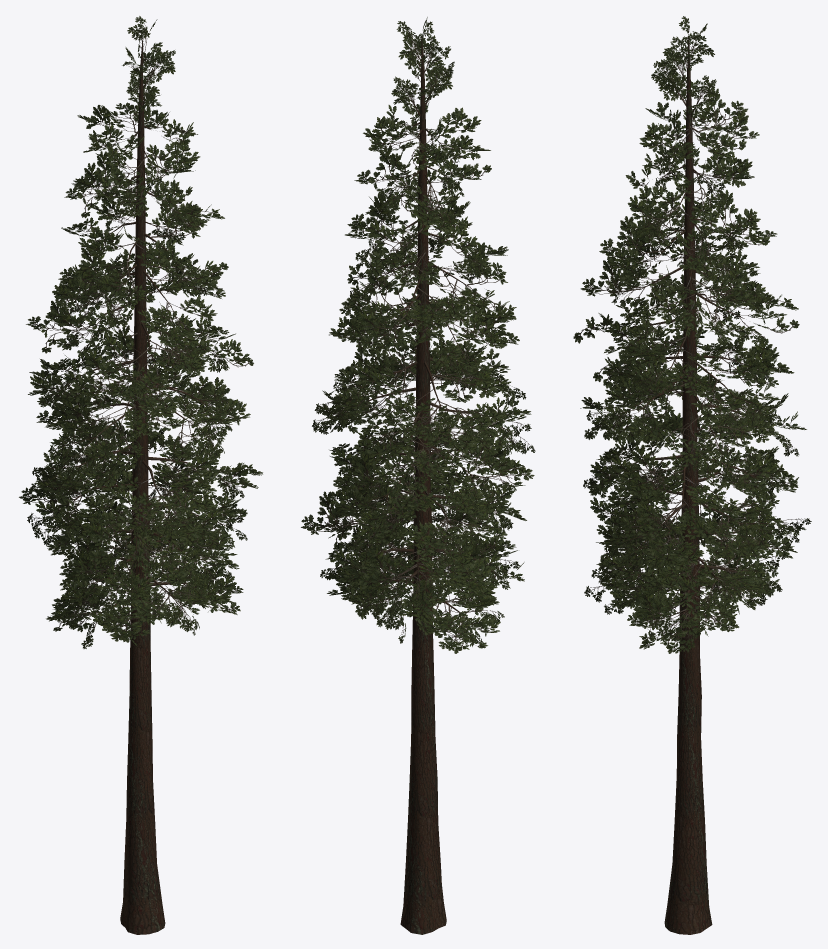
Rendered from s3dtrees_treepineforest02.gltf.
The picture shows the model from 3 angles, left to right: view 1: azimuth 30°, elevation 25°; view 2: azimuth 150°, elevation 25°; view 3: azimuth 270°, elevation 25°; orthographic projection.
Visible parts, largest first — view 1: S3DTrees_treepineforest02_needles, S3DTrees_treepineforest02_needlesNS, S3DTrees_treepineforest02_trunk; view 2: S3DTrees_treepineforest02_needlesNS, S3DTrees_treepineforest02_needles, S3DTrees_treepineforest02_trunk; view 3: S3DTrees_treepineforest02_needles, S3DTrees_treepineforest02_needlesNS, S3DTrees_treepineforest02_trunk.
Part boxes in pixels (x1,y1,x2,y2): S3DTrees_treepineforest02_needles: [29, 19, 253, 648]; S3DTrees_treepineforest02_needlesNS: [19, 16, 262, 642]; S3DTrees_treepineforest02_trunk: [45, 38, 230, 934]; S3DTrees_treepineforest02_needlesNS: [301, 25, 535, 653]; S3DTrees_treepineforest02_needles: [311, 17, 531, 648]; S3DTrees_treepineforest02_trunk: [333, 36, 516, 934]; S3DTrees_treepineforest02_needles: [573, 16, 806, 648]; S3DTrees_treepineforest02_needlesNS: [580, 23, 811, 653]; S3DTrees_treepineforest02_trunk: [599, 36, 787, 934].
Bounding box in the file's own units: 6.58 × 26.17 × 6.38.
2 materials, 2 textured.
